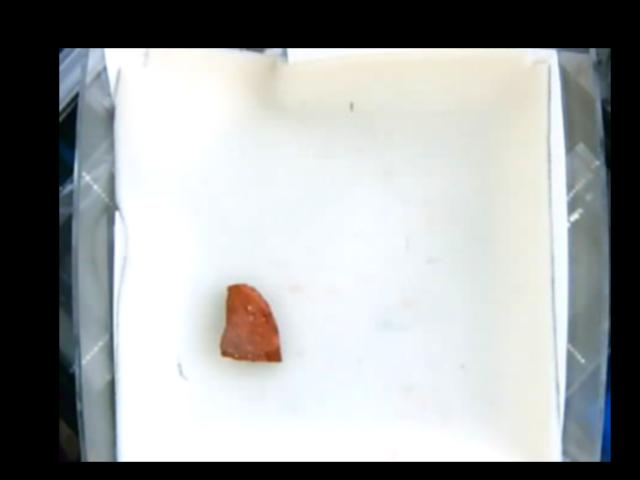Brisk: (220, 282, 279, 366)
